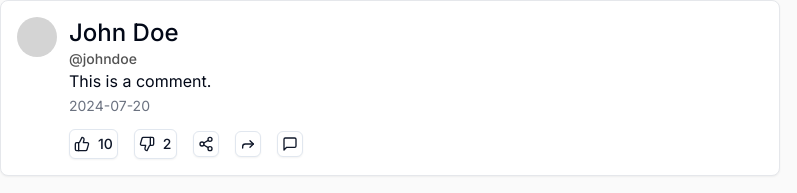
Test: hBPCommentBox Component › should handle dislike button click correctly for the comment
What coordinates should you click on to do the following:
click the element with test id "dislike-button"
I would click on:
 (155, 144)
Its box is x1=134 y1=129 x2=176 y2=159.
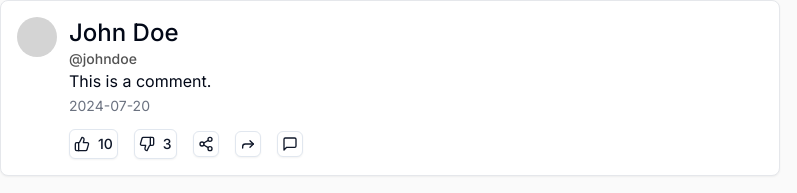
Check: the text "3" is shown, box x1=163 y1=134 x2=172 y2=154
